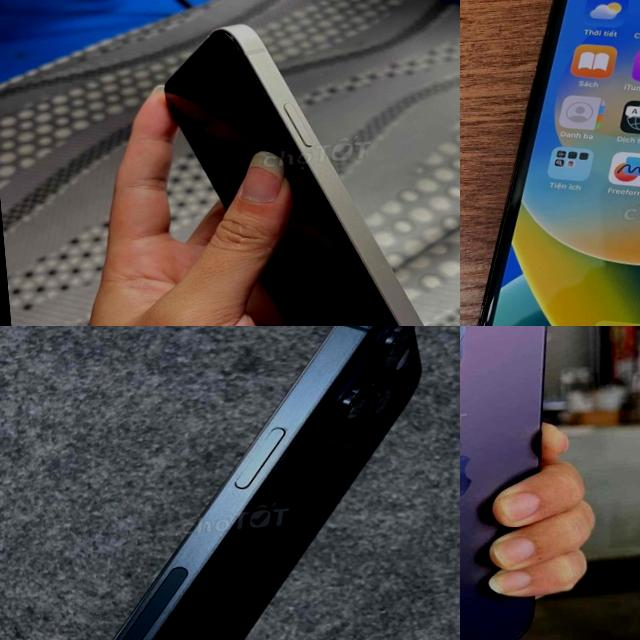scratch: (224, 530, 295, 593)
